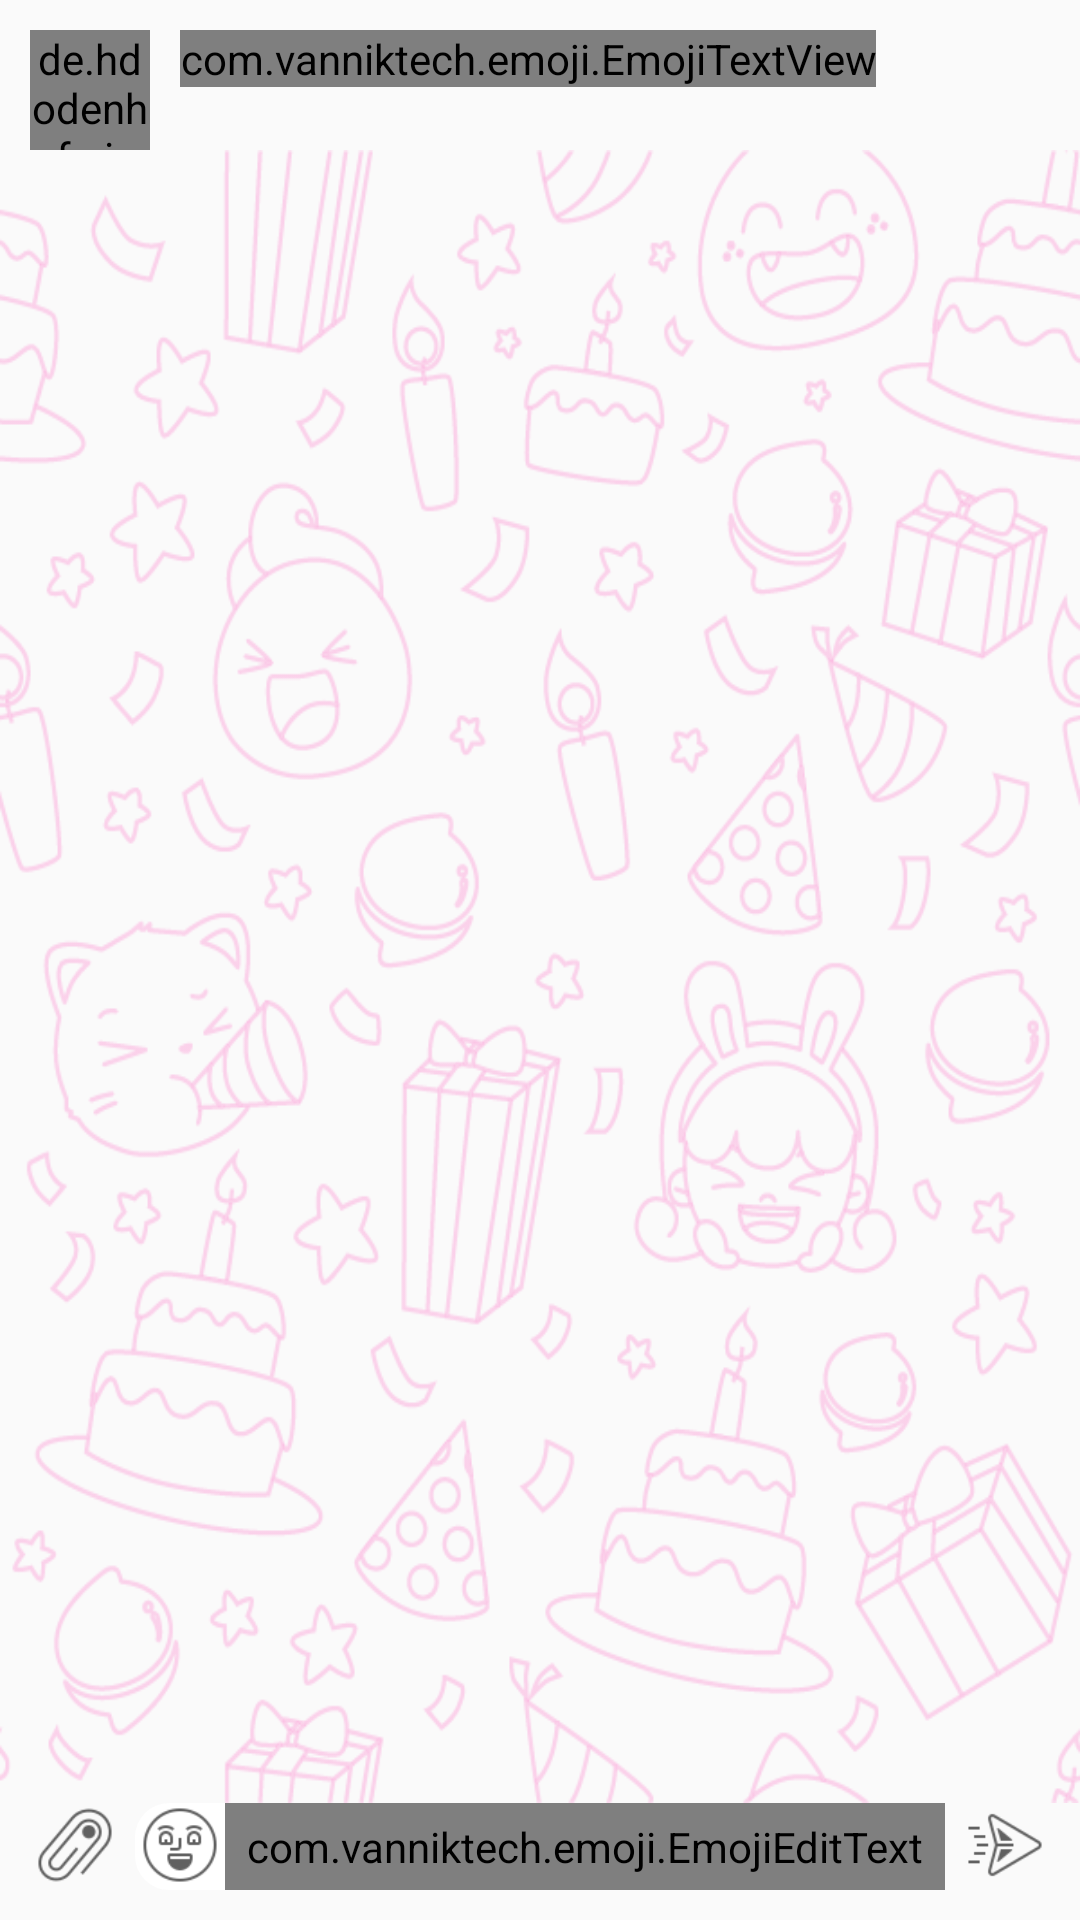

Where icons sit on this 1080x1920 app screen, as [x1=x1, y1=y1, x2=x2, y2=y2]:
attach: [x1=38, y1=1808, x2=112, y2=1882]
lol: [x1=143, y1=1808, x2=217, y2=1882]
sent: [x1=968, y1=1814, x2=1042, y2=1876]
